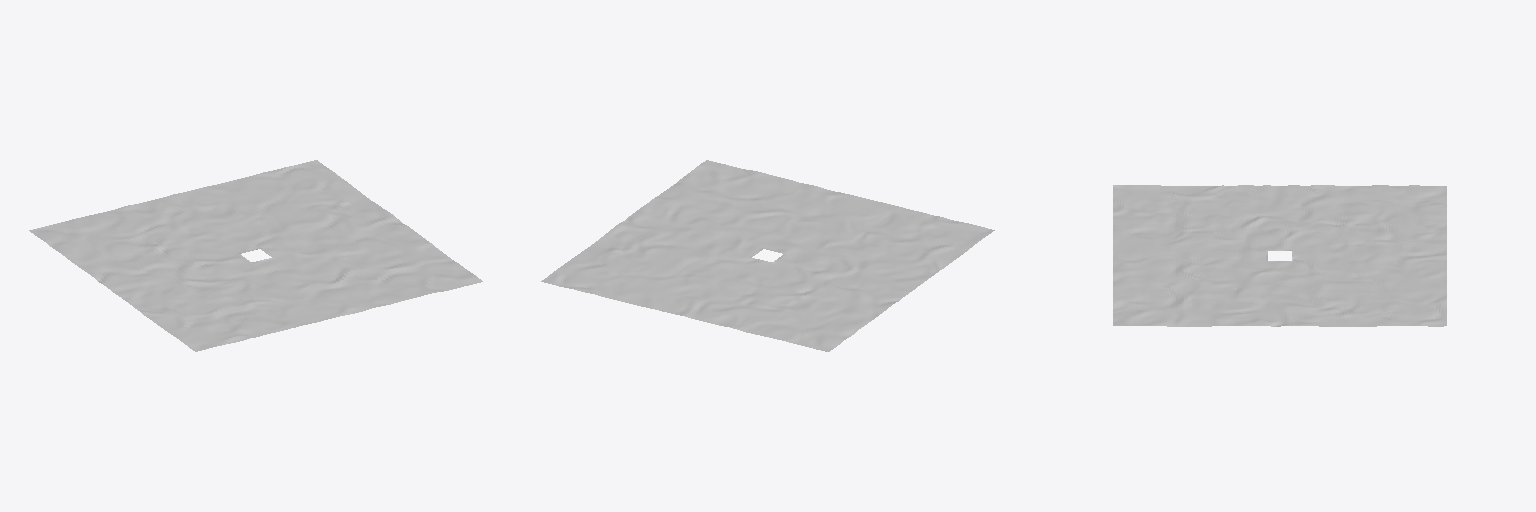
Rendered from landscape1_background1.obj.
The picture shows the model from 3 angles: view 1: azimuth 30°, elevation 25°; view 2: azimuth 150°, elevation 25°; view 3: azimuth 270°, elevation 25°; orthographic projection.
Parts seen in each view (by area): view 1: landscape1_background1; view 2: landscape1_background1; view 3: landscape1_background1.
Boxes of the visible parts, x1,y1,x2,y2 form: landscape1_background1: [29, 160, 482, 351]; landscape1_background1: [541, 160, 994, 351]; landscape1_background1: [1113, 185, 1446, 326].
Bounding box in the file's own units: 9795 × 49.08 × 9795.